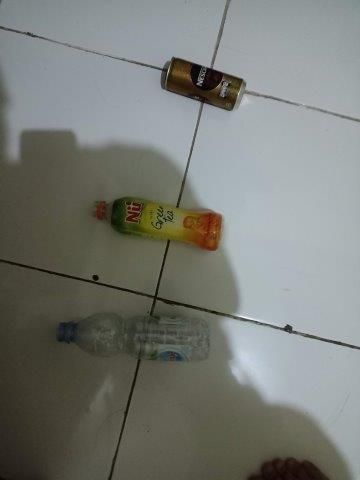botolplastik: (57, 313, 210, 362), (92, 197, 222, 252)
kaleng: (164, 56, 246, 111)
